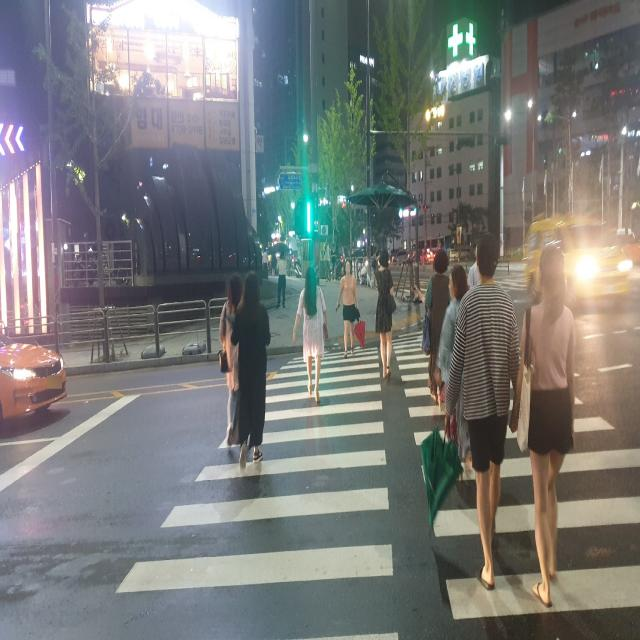횡단보도: (113, 329, 640, 640)
